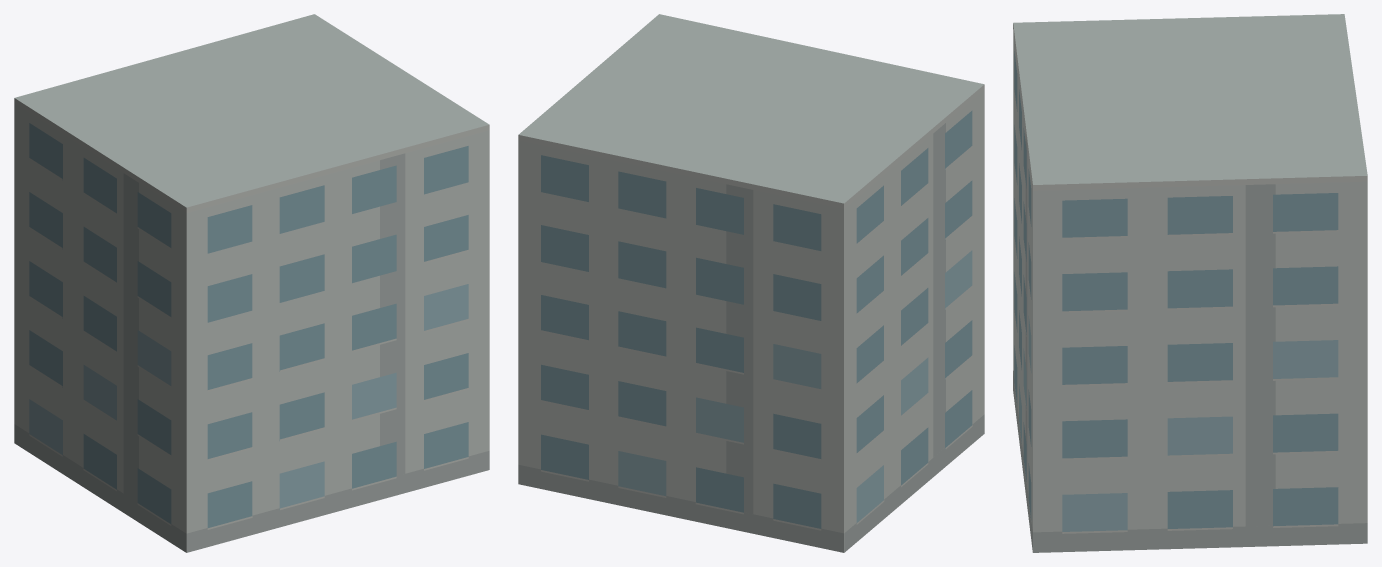
The model's file is survey-upis-32601846.glb.
3 views of the same model, side by side, from view 1: azimuth 30°, elevation 25°; view 2: azimuth 150°, elevation 25°; view 3: azimuth 270°, elevation 25° (orthographic). The views are drawn at different scales.
Visible parts, largest first — view 1: survey-upis-32601846.tmp; view 2: survey-upis-32601846.tmp; view 3: survey-upis-32601846.tmp.
Part boxes in pixels (box(x1,y1,x2,y2)): survey-upis-32601846.tmp: box(14, 14, 489, 552); survey-upis-32601846.tmp: box(518, 14, 984, 552); survey-upis-32601846.tmp: box(1013, 14, 1367, 552).
Size of the model in its own units: 15.22 by 15.25 by 13.33.
